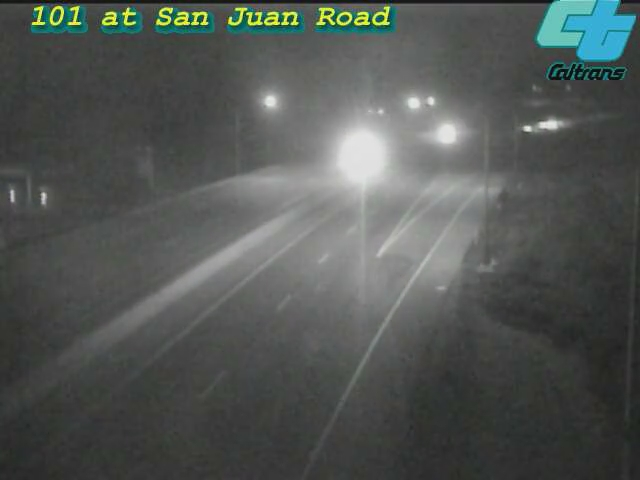vehicle: (334, 131, 384, 181), (419, 110, 469, 160), (535, 97, 585, 147), (516, 99, 566, 149), (503, 104, 553, 154)
